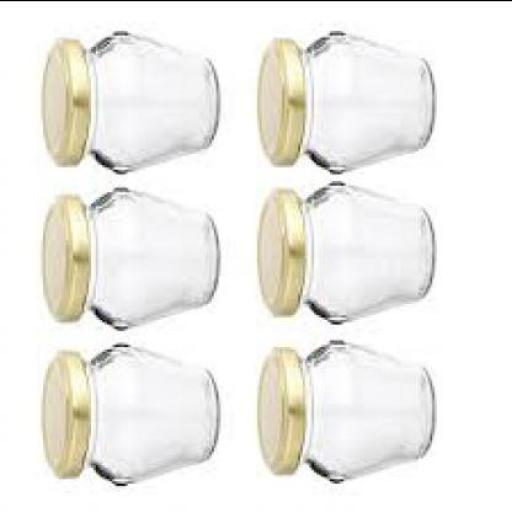glass: (296, 342, 430, 484), (82, 187, 213, 332), (299, 182, 430, 325), (84, 346, 216, 487), (82, 32, 213, 172), (302, 34, 430, 175)
metal: (253, 193, 305, 319), (255, 38, 303, 169), (37, 196, 86, 321), (40, 355, 88, 481), (40, 43, 88, 169), (260, 350, 305, 476)
